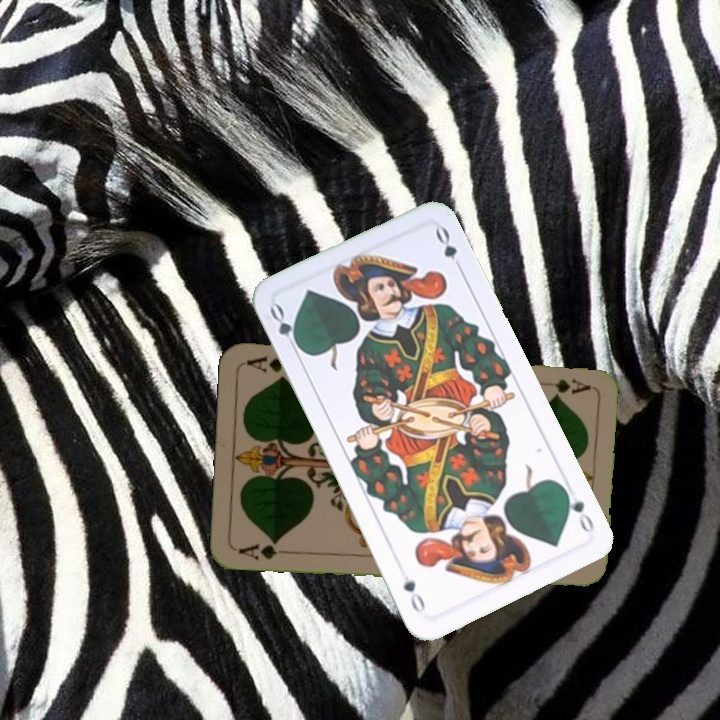GA: (235, 536, 293, 563), (533, 375, 592, 393)
GO: (265, 300, 306, 357), (558, 482, 597, 535)
